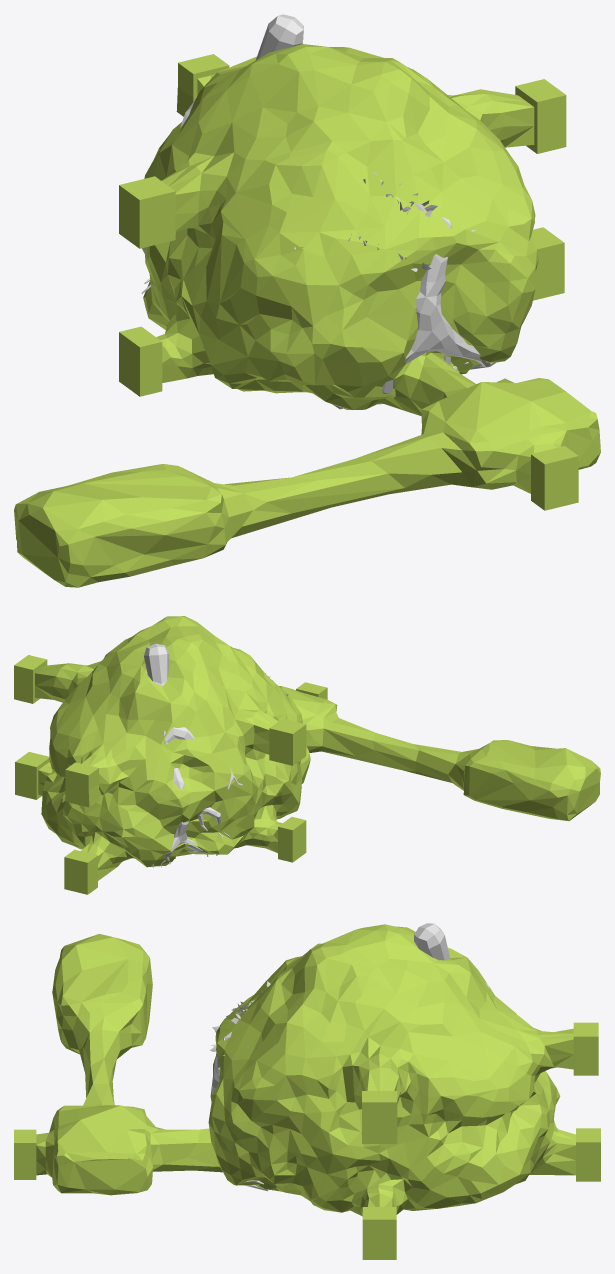
Rendered from TreeLevel_Cave_Tree(1).fbx.
3 renders of one model, top to bottom at view 1: azimuth 30°, elevation 25°; view 2: azimuth 150°, elevation 25°; view 3: azimuth 270°, elevation 25°, orthographic. The views are drawn at different scales.
Parts seen in each view (by area): view 1: PoziomTestDeciamte, DuzeDrzewo, Korzeń_Duży; view 2: PoziomTestDeciamte, Korzeń_Duży; view 3: PoziomTestDeciamte, Korzeń_Duży, DuzeDrzewo.
Part boxes in pixels (x1,y1,x2,y2): PoziomTestDeciamte: (14, 44, 600, 587); DuzeDrzewo: (291, 171, 496, 409); Korzeń_Duży: (141, 14, 303, 293); PoziomTestDeciamte: (14, 616, 600, 894); Korzeń_Duży: (144, 643, 242, 867); PoziomTestDeciamte: (14, 924, 600, 1259); Korzeń_Duży: (414, 923, 489, 988); DuzeDrzewo: (210, 981, 270, 1191).
Bounding box in the file's own units: 13670 × 5710 × 12511.
